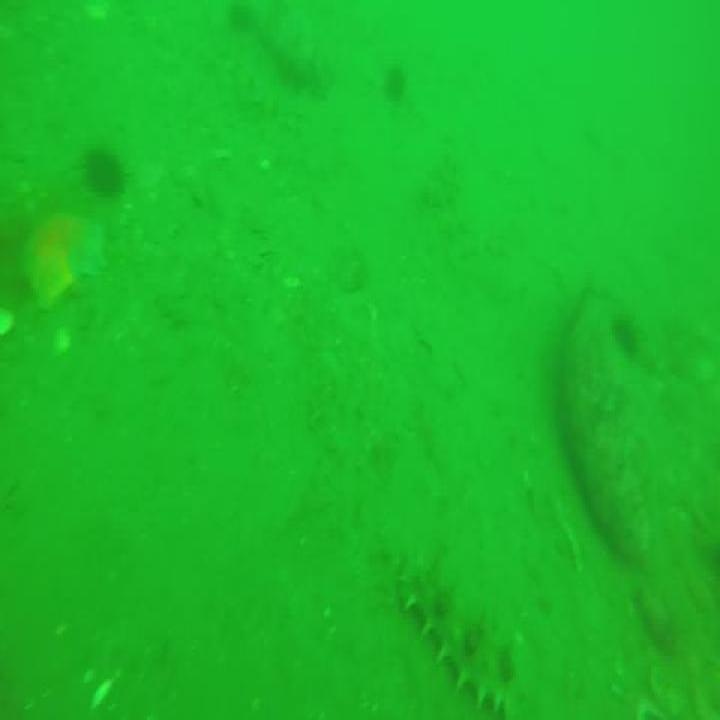echinus: (83, 140, 120, 196), (390, 62, 404, 110)
holothurian: (404, 562, 519, 720)
